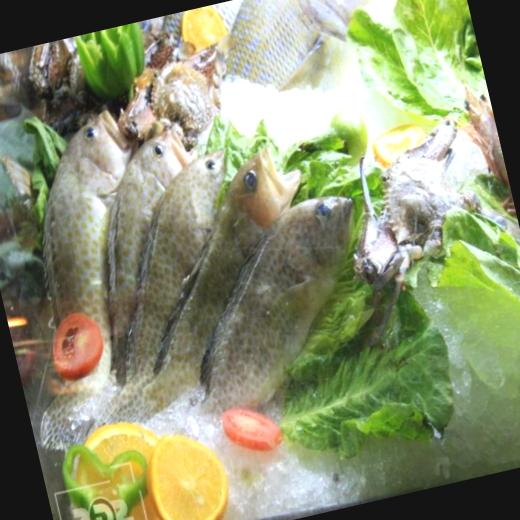Grape: (65, 413, 183, 520), (135, 425, 235, 520), (174, 2, 231, 56)
